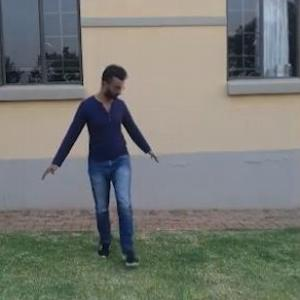land: (39, 54, 184, 270)
